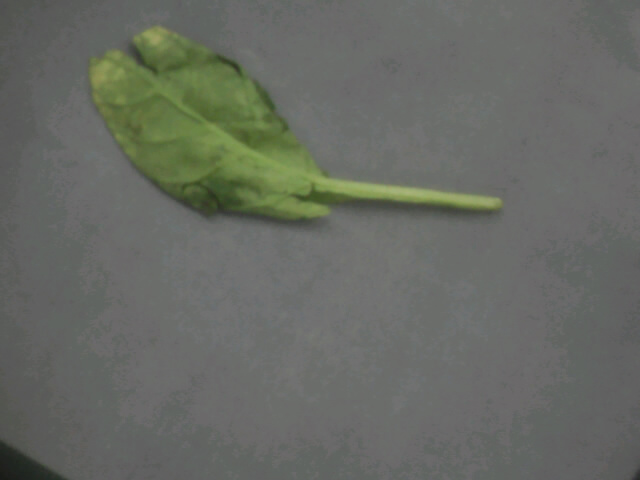yellow: (70, 6, 437, 236)
